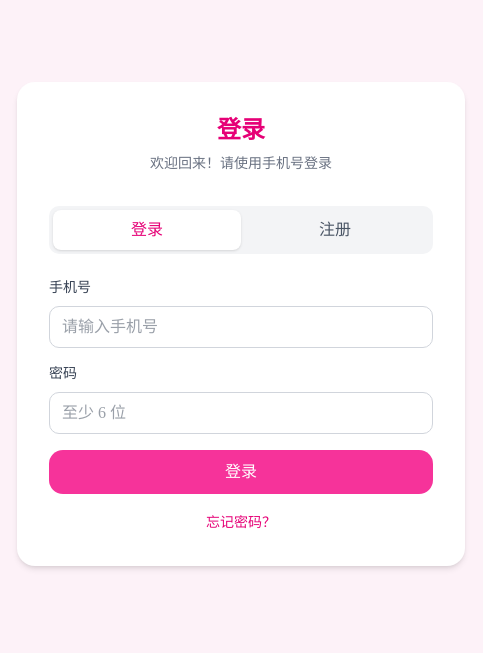
Scenario: OnboardingPage › 注册模式下显示用户名输入框
The image size is (483, 653).
//  切换到注册模式
Click the button "注册". click: (335, 230)
box: [241,210,429,250]
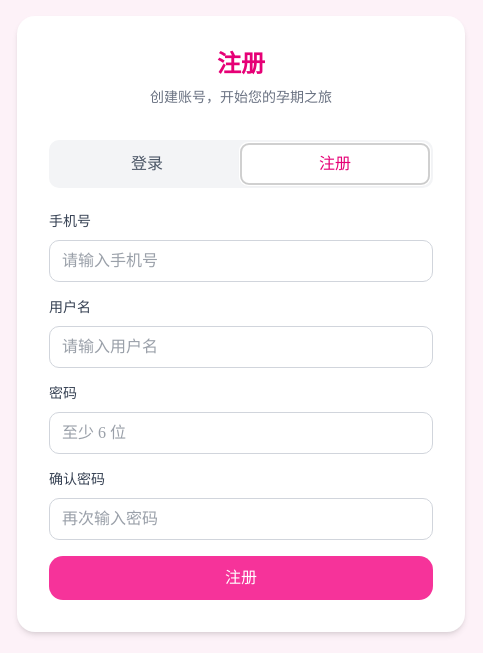
Expected: the field with placeholder "请输入用户名" is shown, [49,326,433,368]
